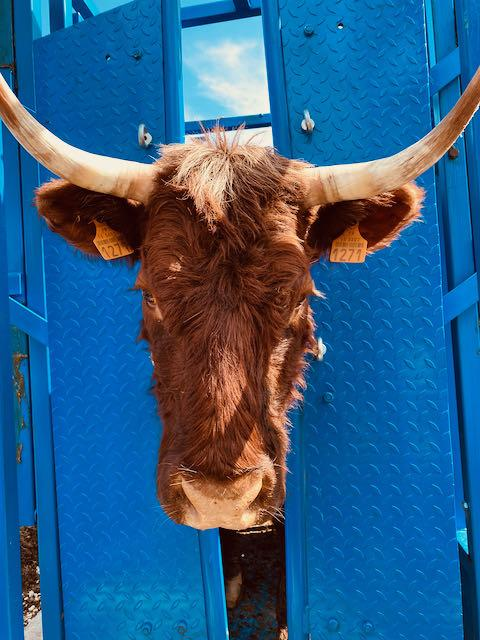muzzles: (144, 459, 294, 538)
